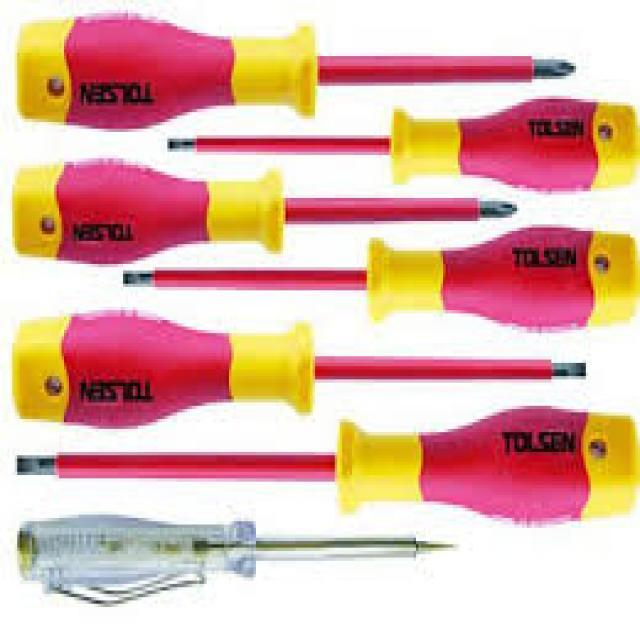screwdriver: (10, 401, 640, 533), (4, 305, 592, 434), (4, 13, 584, 135), (118, 220, 640, 338), (11, 152, 528, 270), (160, 94, 640, 193), (15, 509, 463, 608)
